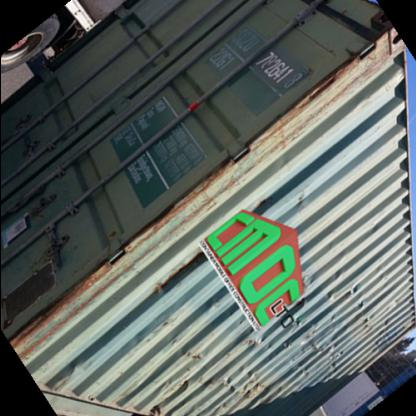Damage: (28, 260, 116, 344), (284, 66, 360, 116), (151, 245, 210, 296), (151, 373, 201, 413), (226, 366, 280, 402), (352, 276, 378, 335), (44, 364, 81, 402), (290, 292, 316, 328), (320, 350, 352, 372), (296, 190, 318, 218), (176, 346, 208, 361), (239, 332, 269, 346)
